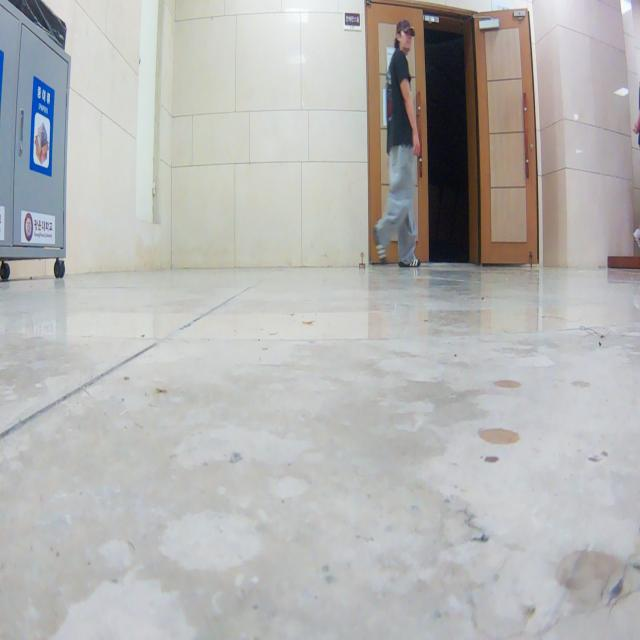target: (359, 251, 366, 271)
